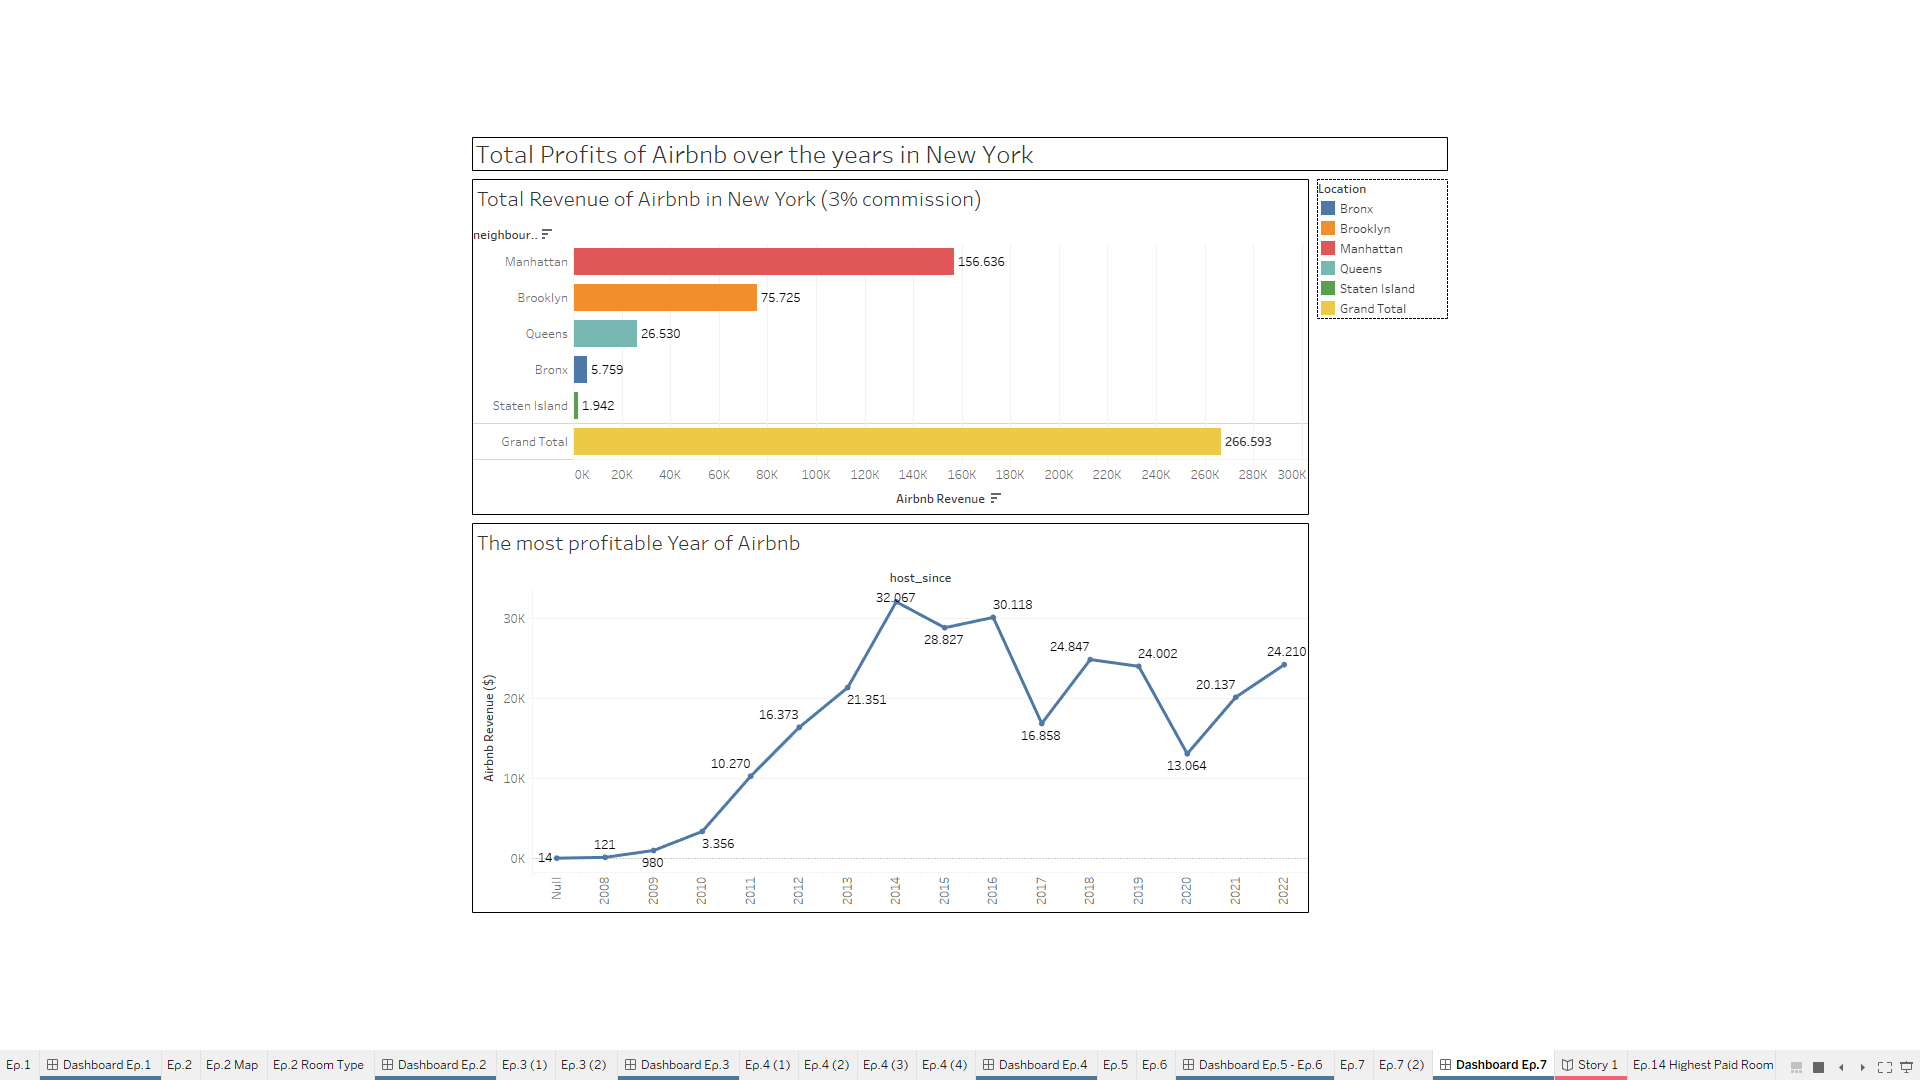

The page's visual inventory and layout, read from the dashboard file:
{"tool":"tableau","page":{"name":"Dashboard Ερ.7","canvas":[1000,800],"ordinal":10},"visuals":[{"type":"title","box":[8,8,984,42]},{"type":"worksheet","title":"Ερ.7","mark":"Automatic","rows":["neighbourhood_group"],"cols":["Calculation_1838876060622938112"],"box":[8,50,845,344.5]},{"type":"legend","title":"Ερ.7","param":"[federated.0qx4ns015wxjyk1gr6kcb1janunp].[none:neighbourhood_group:nk]","box":[853,50,139,148]},{"type":"worksheet","title":"Ερ.7 (2)","mark":"Line","rows":["Calculation_1838876060622938112"],"cols":["host_since"],"box":[8,394.5,845,397.5]}]}

Visuals, with their boxes on the page's 1000x800 design canvas (x1, y1, x2, y2). These are canvas units, not pixel positions in the 1920x1080 screenshot, which may show the page scaled, cropped or inside an application window:
title: 8, 8, 992, 50
"Ερ.7" worksheet: 8, 50, 853, 394
"Ερ.7" legend: 853, 50, 992, 198
"Ερ.7 (2)" worksheet (Line marks): 8, 394, 853, 792
